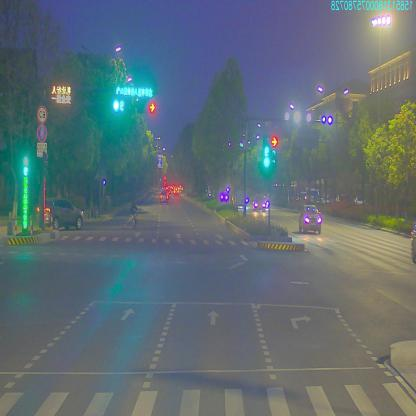traffic-light: (114, 86, 154, 95), (114, 97, 132, 114), (140, 100, 154, 114)
